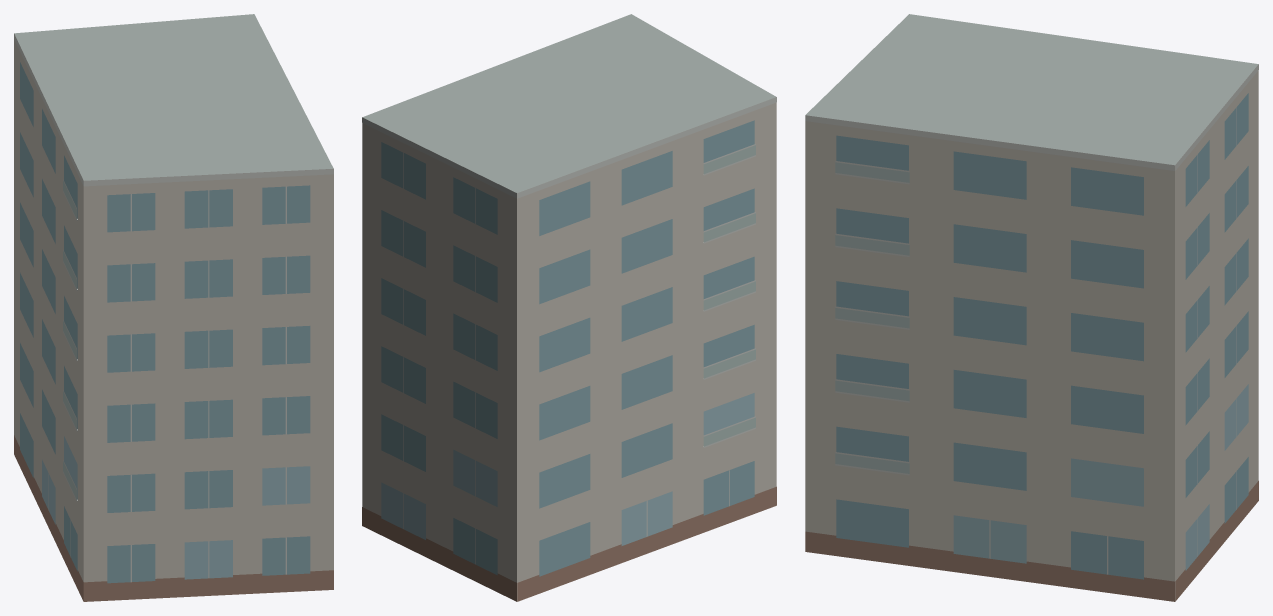
The model's file is survey-upis-32878268.glb.
The picture shows the model from 3 angles, left to right: view 1: azimuth 30°, elevation 25°; view 2: azimuth 150°, elevation 25°; view 3: azimuth 270°, elevation 25°; orthographic projection. The views are drawn at different scales.
Visible parts, largest first — view 1: survey-upis-32878268.tmp; view 2: survey-upis-32878268.tmp; view 3: survey-upis-32878268.tmp.
Part boxes in pixels (x1,y1,x2,y2): survey-upis-32878268.tmp: (14, 14, 333, 601); survey-upis-32878268.tmp: (362, 14, 776, 601); survey-upis-32878268.tmp: (805, 14, 1258, 601).
Size of the model in its own units: 13.61 by 18.3 by 17.24.
